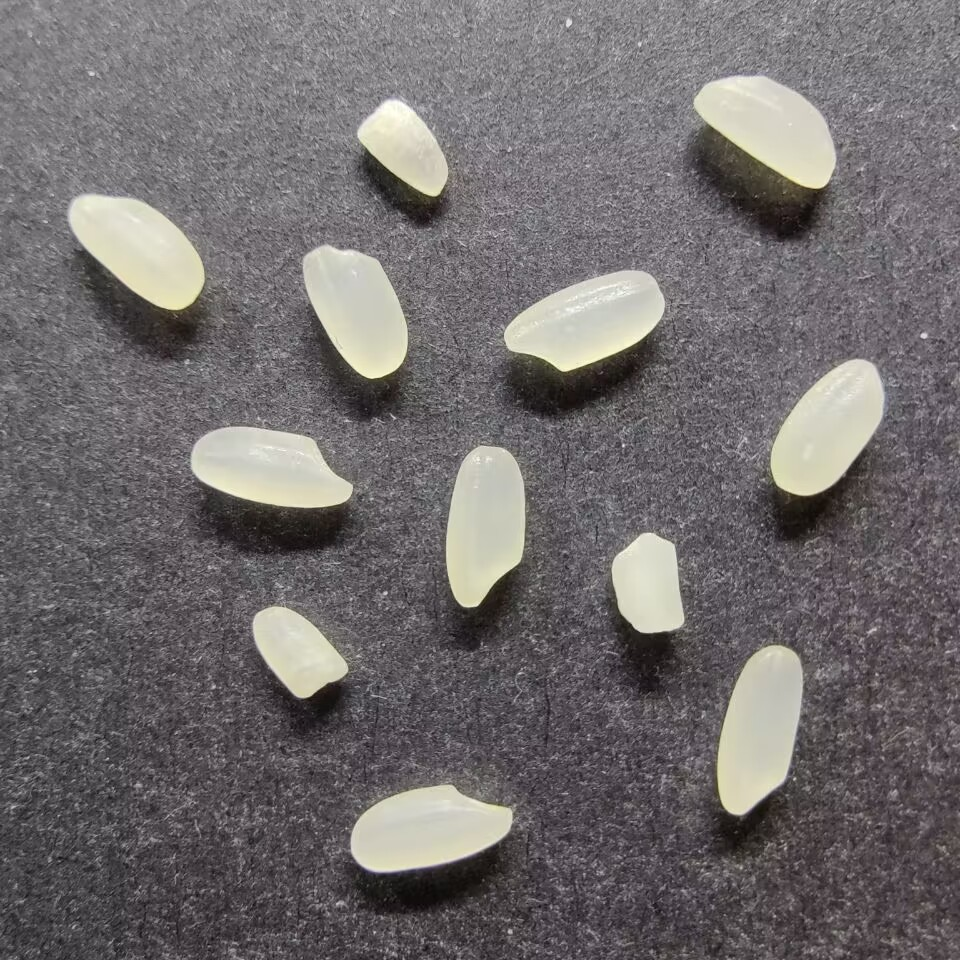broken: (355, 98, 451, 198), (249, 605, 350, 700), (608, 530, 685, 634)
rice: (691, 73, 838, 190), (66, 190, 206, 312), (503, 268, 665, 372), (768, 356, 885, 497), (714, 644, 805, 817), (297, 244, 411, 380), (348, 783, 515, 874), (187, 425, 356, 508), (443, 444, 526, 609)
